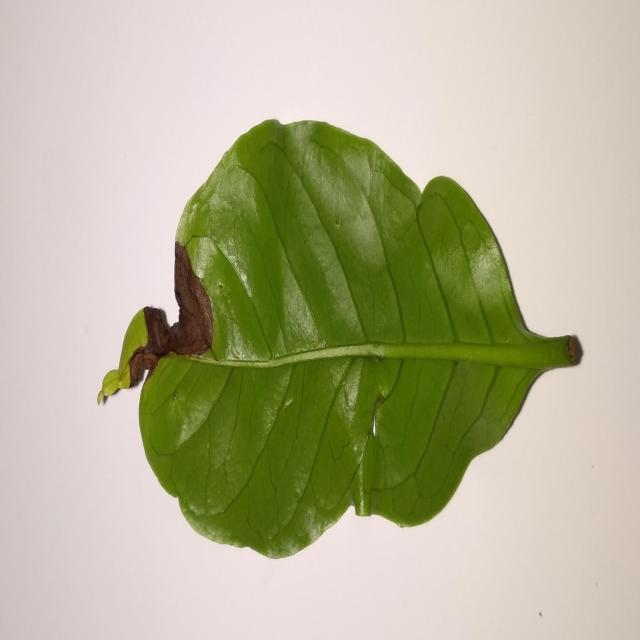Enfermedad-Antracnosis: (95, 120, 584, 561)
